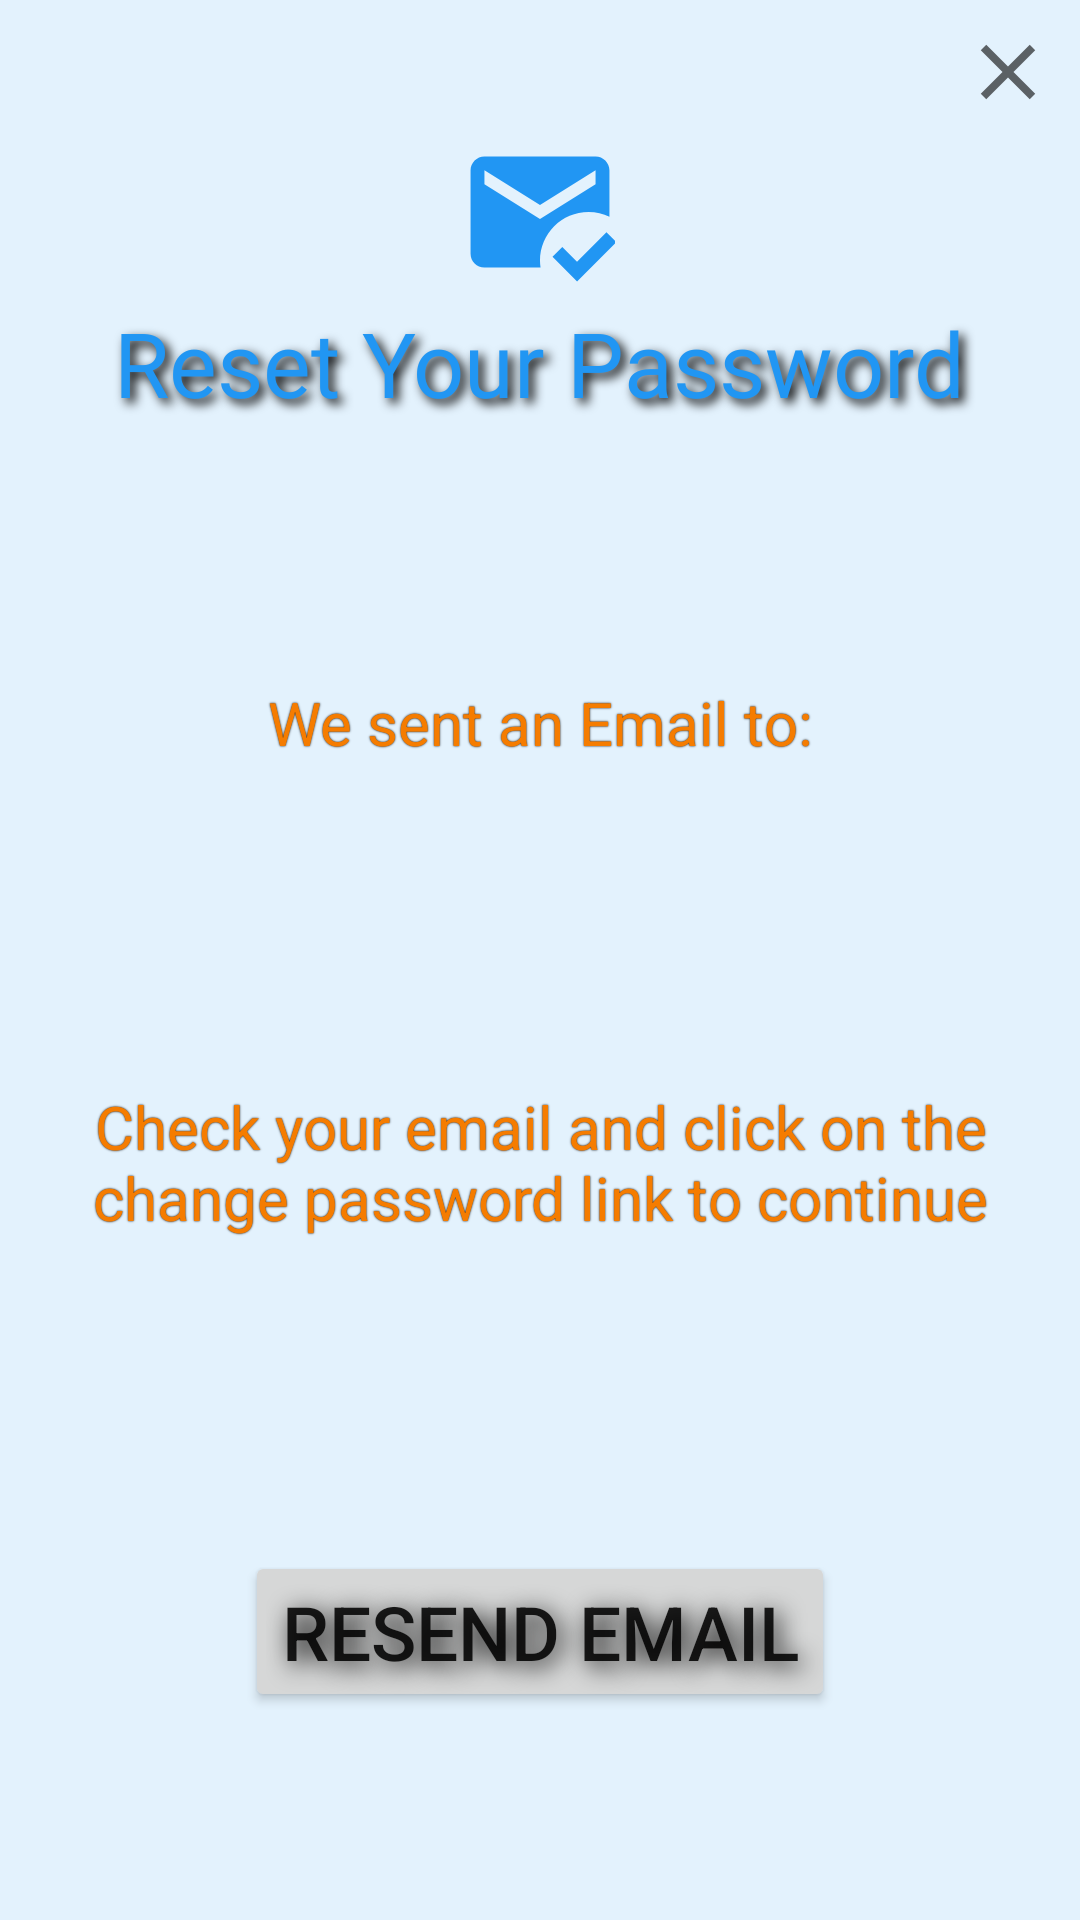

Locate icon controls on the screen. Image size 1080px x 1920px, boxes as (x1, y1, x2, y2).
Exit: (981, 45, 1035, 99)
